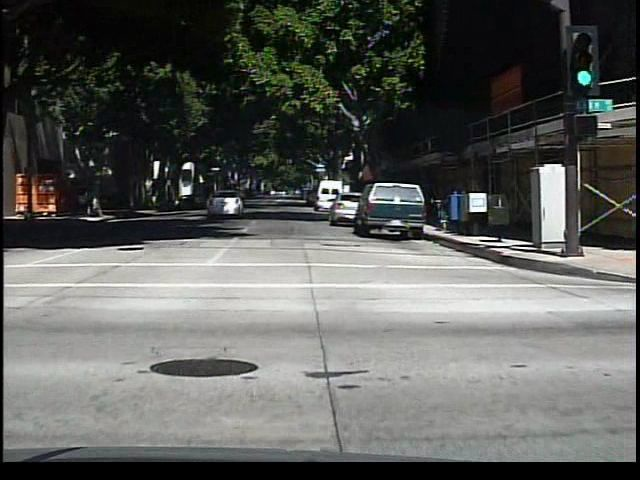person: (76, 182, 92, 217)
